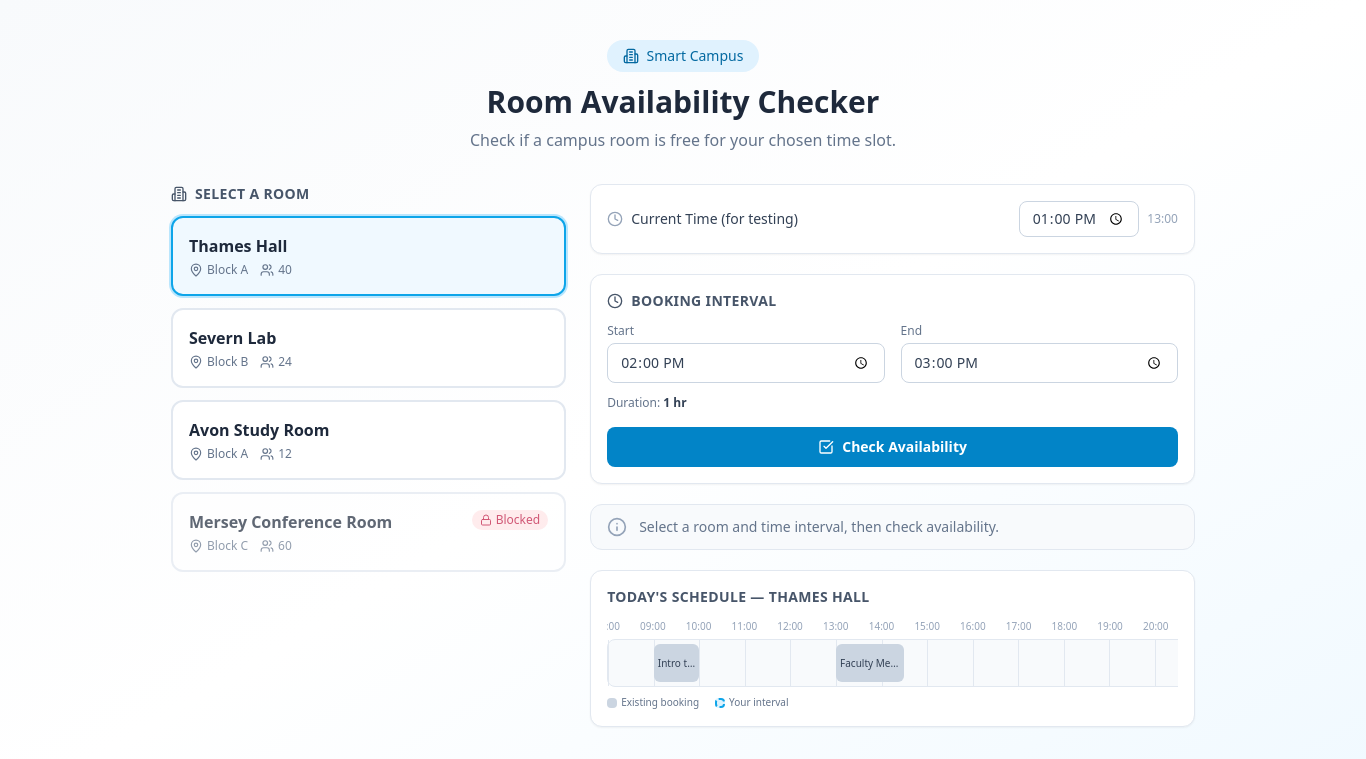
App with an emptied time field › clearing the end field does not crash the page and is rejected with AC1
Clear the time field below "End" at (1039, 363), box [901,343,1178,383]
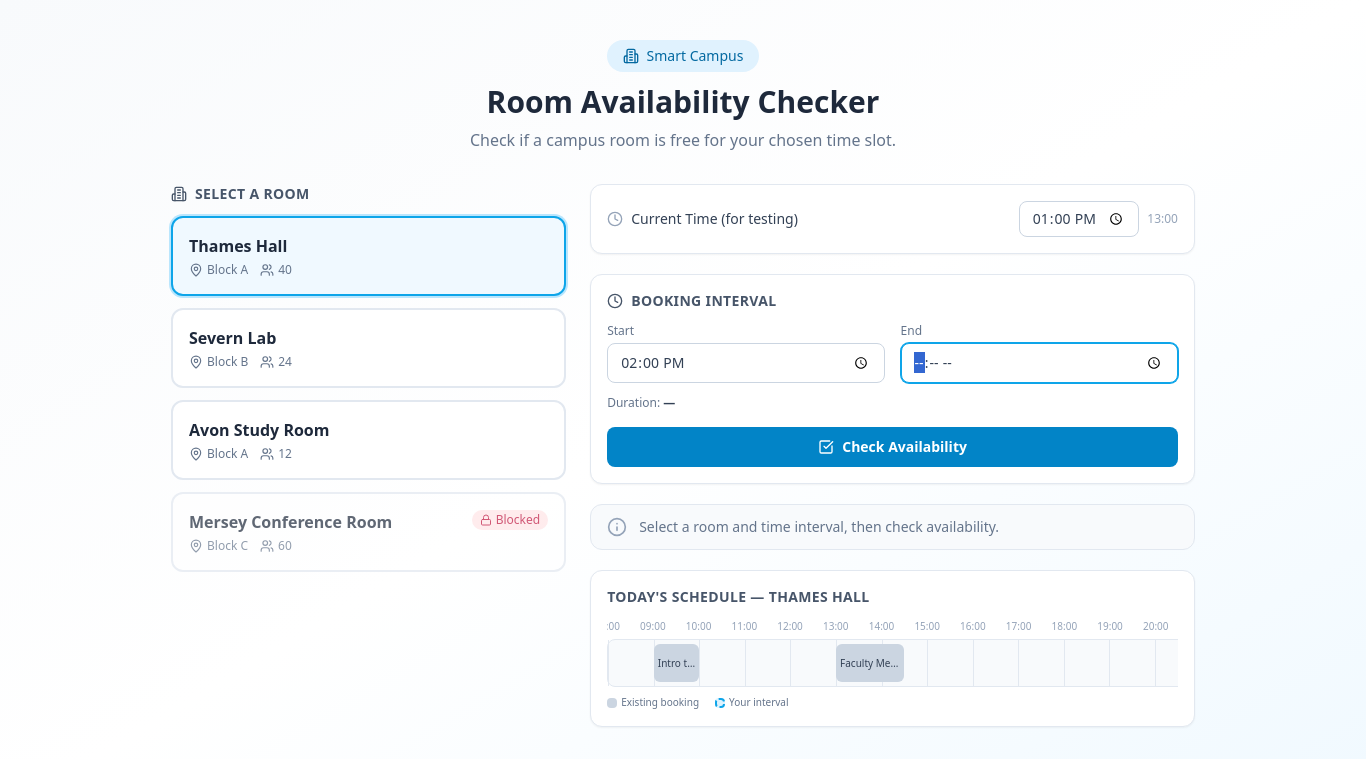
Expected: the heading "Room Availability Checker" is shown, [487,81,879,122]
Click the button "Check Availability" at (893, 447), box [607,427,1178,467]
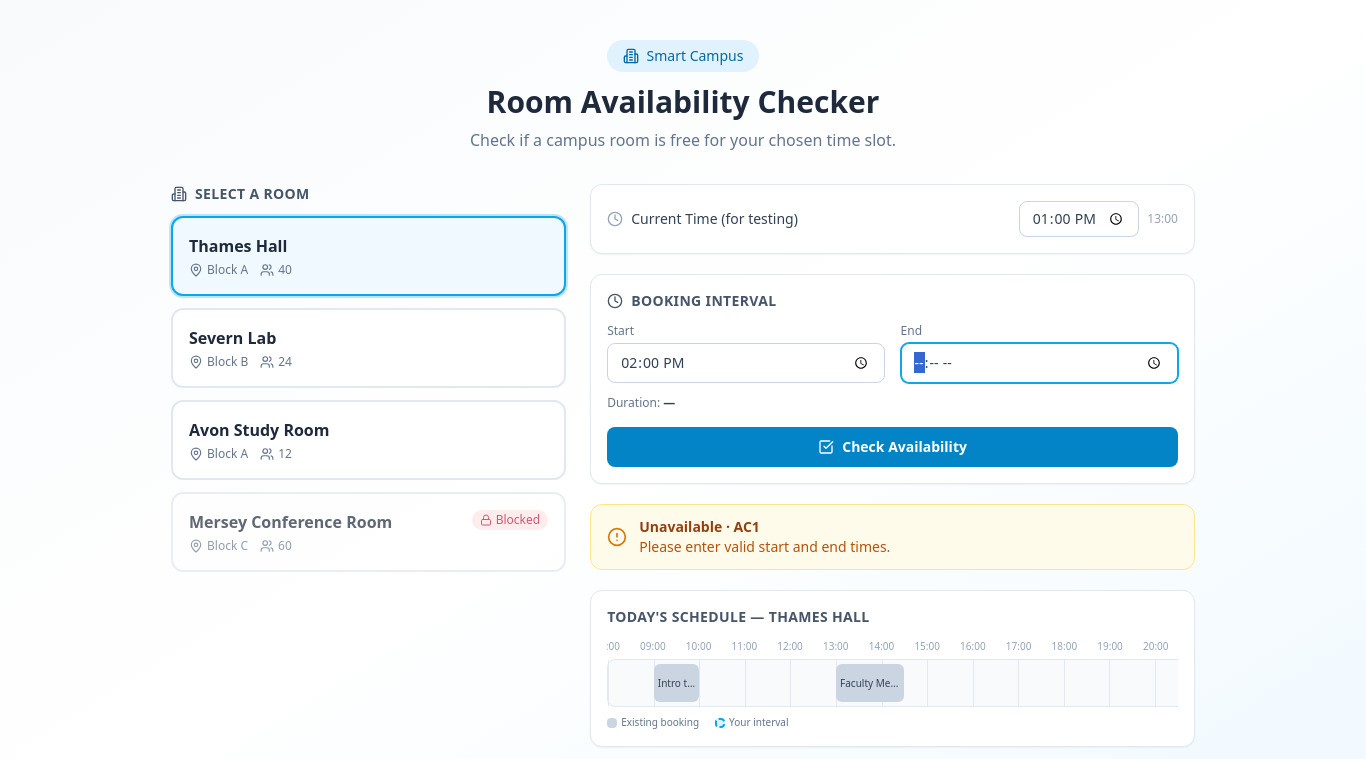
Expected: the text "Unavailable · AC1" is shown, [639,517,760,536]
